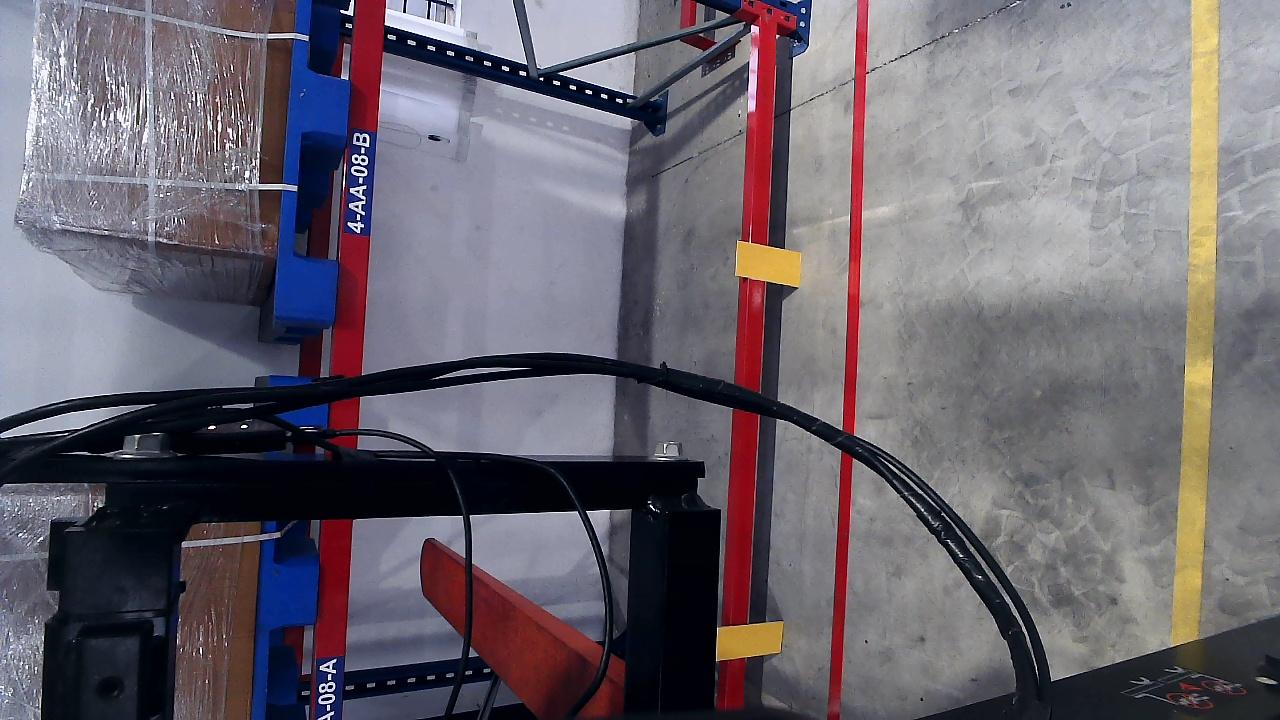h_rack: (718, 27, 768, 712), (329, 0, 390, 375), (310, 430, 360, 718)
orange_strip: (735, 241, 801, 287), (715, 620, 784, 659)
red_line: (839, 0, 868, 662)
small_pallet: (270, 0, 362, 318)
yellow_line: (1170, 23, 1220, 628)
